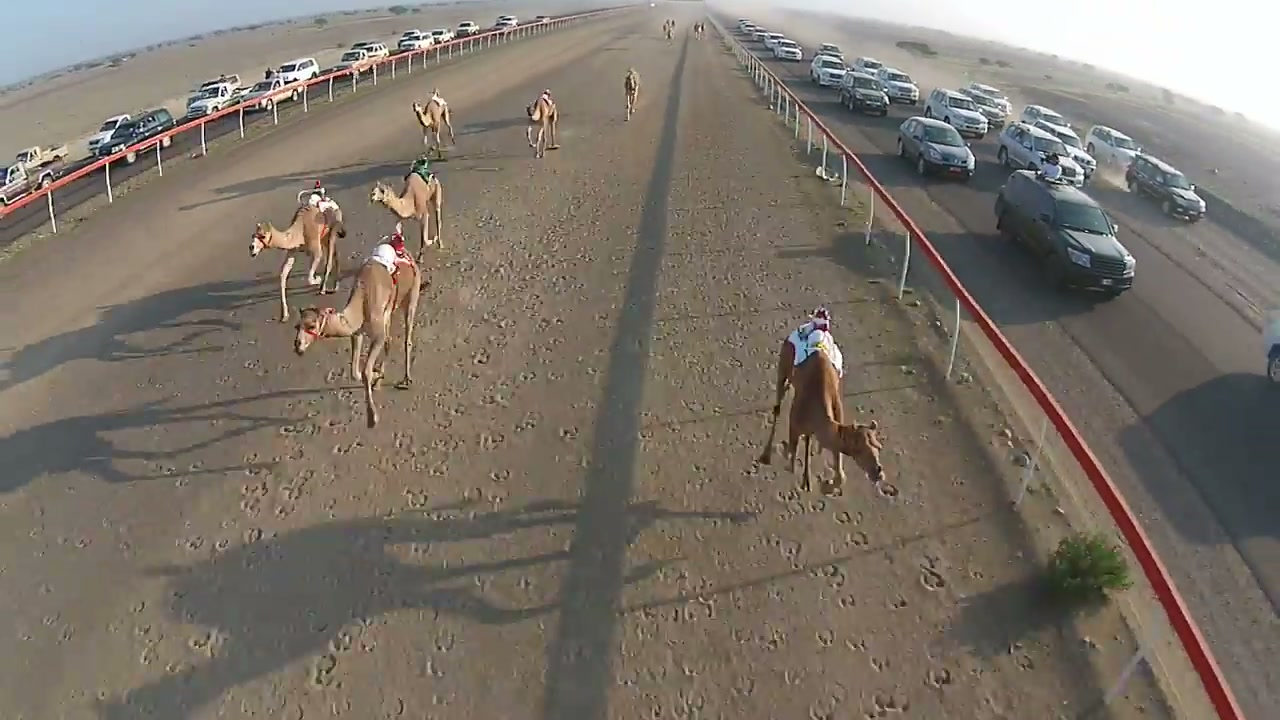animal_footprint: (144, 406, 346, 678)
